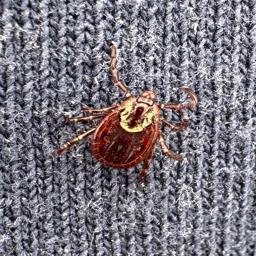Dermacentor variabilis: (106, 37, 221, 167)
